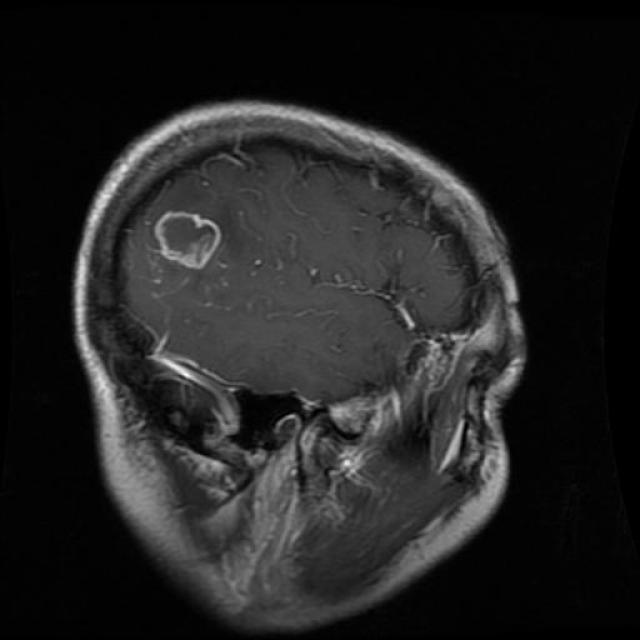glioma: (158, 200, 224, 280)
